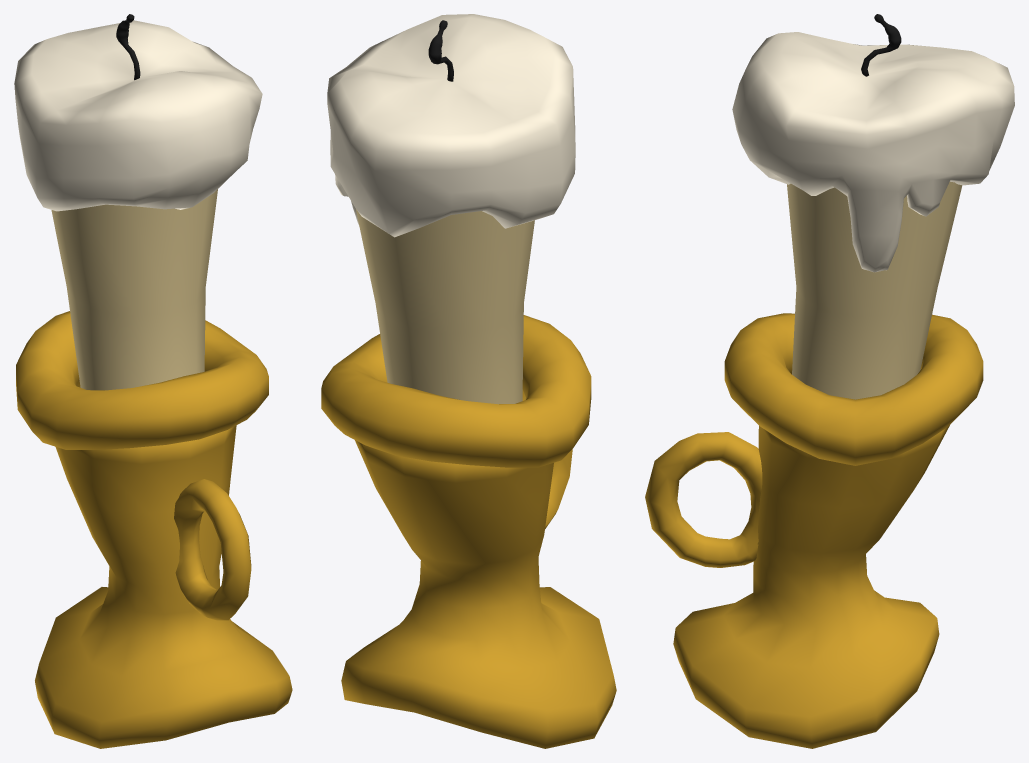
The model's file is props_candle.fbx.
The picture shows the model from 3 angles, left to right: view 1: azimuth 30°, elevation 25°; view 2: azimuth 150°, elevation 25°; view 3: azimuth 270°, elevation 25°; orthographic projection. The views are drawn at different scales.
Visible parts, largest first — view 1: socle, cire_fondue, bougie, tige.002; view 2: socle, cire_fondue, bougie, tige.002; view 3: socle, cire_fondue, bougie, tige.002.
Part boxes in pixels (<box>): socle: <box>16,311,292,748</box>; cire_fondue: <box>14,20,262,211</box>; bougie: <box>51,189,217,390</box>; tige.002: <box>116,14,140,80</box>; socle: <box>321,315,616,748</box>; cire_fondue: <box>327,14,575,237</box>; bougie: <box>356,209,534,404</box>; tige.002: <box>428,20,453,81</box>; socle: <box>645,313,983,748</box>; cire_fondue: <box>732,32,1014,272</box>; bougie: <box>787,181,962,399</box>; tige.002: <box>861,14,901,76</box>.
Bounding box in the file's own units: 32.07 × 92.5 × 45.25.
